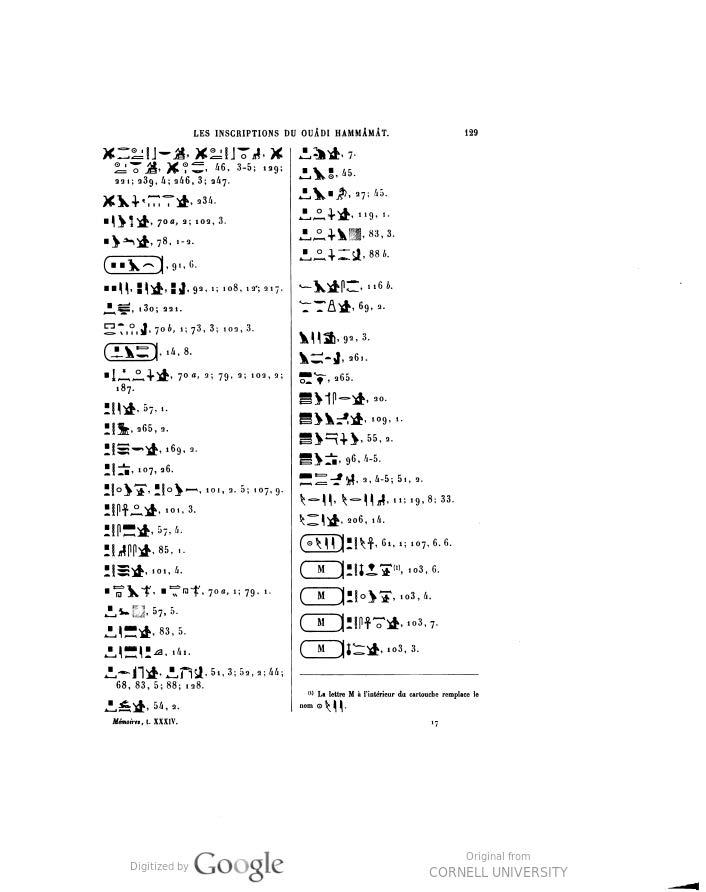circle: (93, 243, 178, 285), (101, 332, 173, 375), (297, 519, 348, 558), (294, 608, 357, 638), (291, 637, 358, 663), (292, 557, 364, 581), (291, 583, 356, 607)
